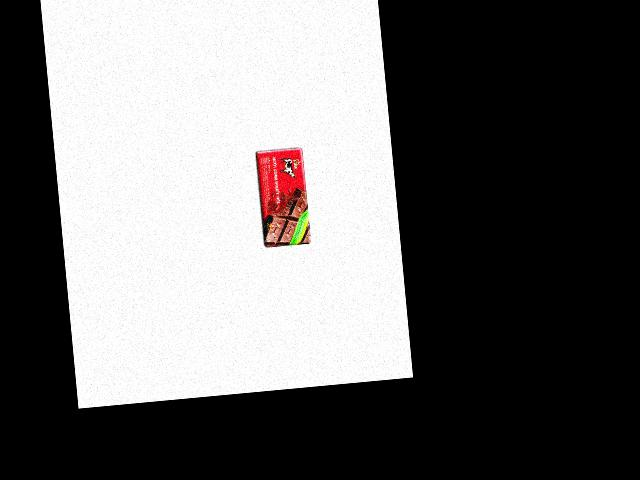chocolate: (250, 144, 312, 248)
